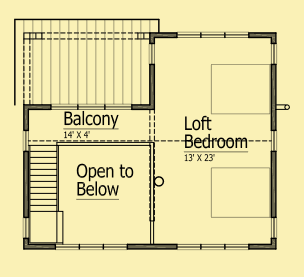stairs: (24, 144, 57, 246)
window: (176, 30, 251, 40), (48, 103, 134, 111), (174, 241, 248, 250), (54, 243, 127, 252), (269, 126, 278, 152), (268, 215, 277, 239), (270, 41, 278, 67)
